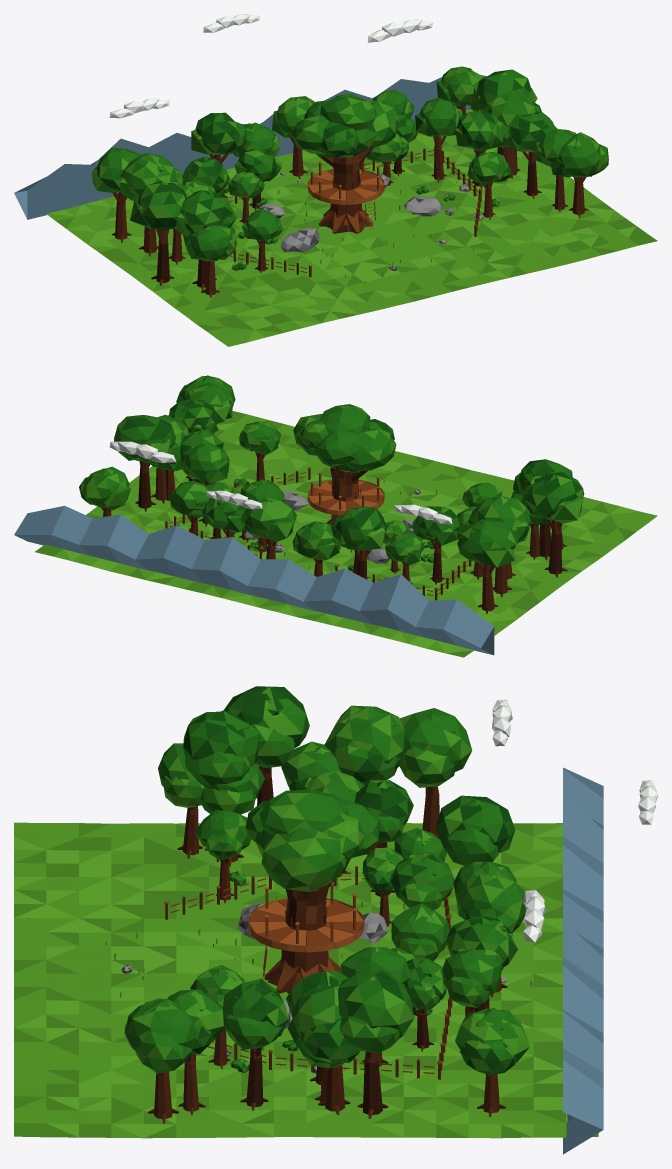
Rendered from TreehouseZooDiorama.fbx.
The picture shows the model from 3 angles, top to bottom: view 1: azimuth 30°, elevation 25°; view 2: azimuth 150°, elevation 25°; view 3: azimuth 270°, elevation 25°; orthographic projection. The views are drawn at different scales.
Visible parts, largest first — view 1: Grass_Terrain, Distant_Mountain_Ridge, Outer_Tree_09, Background_Tree_13, Outer_Tree_03, Outer_Tree_04, Outer_Tree_11, Background_Tree_10, Outer_Tree_06, Outer_Tree_13, Background_Tree_08, Hero_Tree_Trunk (+25 smaller); view 2: Grass_Terrain, Distant_Mountain_Ridge, Outer_Tree_09, Outer_Tree_07, Background_Tree_13, Outer_Tree_06, Background_Tree_15, Outer_Tree_08, Outer_Tree_11, Background_Tree_08, Background_Tree_14, Hero_Canopy_02 (+24 smaller); view 3: Grass_Terrain, Distant_Mountain_Ridge, Outer_Tree_06, Outer_Tree_11, Outer_Tree_03, Outer_Tree_07, Background_Tree_13, Outer_Tree_09, Hero_Canopy_03, Outer_Tree_04, Outer_Tree_08, Outer_Tree_12 (+34 smaller).
Boxes of the visible parts, box(x1,y1,x2,y2) form: Grass_Terrain: box(46, 109, 657, 346); Distant_Mountain_Ridge: box(14, 75, 486, 219); Outer_Tree_09: box(130, 180, 190, 285); Background_Tree_13: box(191, 112, 246, 197); Outer_Tree_03: box(173, 190, 236, 290); Outer_Tree_04: box(550, 132, 608, 217); Outer_Tree_11: box(119, 153, 183, 256); Background_Tree_10: box(455, 109, 503, 188); Outer_Tree_06: box(470, 69, 537, 110); Outer_Tree_13: box(186, 225, 236, 297); Background_Tree_08: box(415, 98, 462, 182); Hero_Tree_Trunk: box(326, 154, 364, 233); Grass_Terrain: box(35, 411, 657, 657); Distant_Mountain_Ridge: box(14, 505, 494, 655); Outer_Tree_09: box(522, 472, 583, 577); Outer_Tree_07: box(457, 519, 516, 613); Background_Tree_13: box(331, 506, 386, 557); Outer_Tree_06: box(114, 415, 175, 511); Background_Tree_15: box(240, 497, 296, 546); Outer_Tree_08: box(79, 466, 130, 511); Outer_Tree_11: box(468, 496, 530, 597); Background_Tree_08: box(181, 444, 229, 526); Background_Tree_14: box(292, 521, 340, 563); Hero_Canopy_02: box(347, 428, 396, 470); Grass_Terrain: box(14, 822, 598, 1138); Distant_Mountain_Ridge: box(563, 767, 603, 1154); Outer_Tree_06: box(338, 970, 414, 1118); Outer_Tree_11: box(324, 705, 405, 855); Outer_Tree_03: box(183, 710, 259, 861); Outer_Tree_07: box(399, 708, 472, 792); Background_Tree_13: box(436, 795, 515, 865); Outer_Tree_09: box(223, 686, 309, 774); Hero_Canopy_03: box(261, 827, 346, 891); Outer_Tree_04: box(124, 998, 197, 1123); Outer_Tree_08: box(455, 1008, 529, 1116); Outer_Tree_12: box(223, 978, 288, 1110).
Size of the model in its own units: 50 by 13.05 by 39.65.
